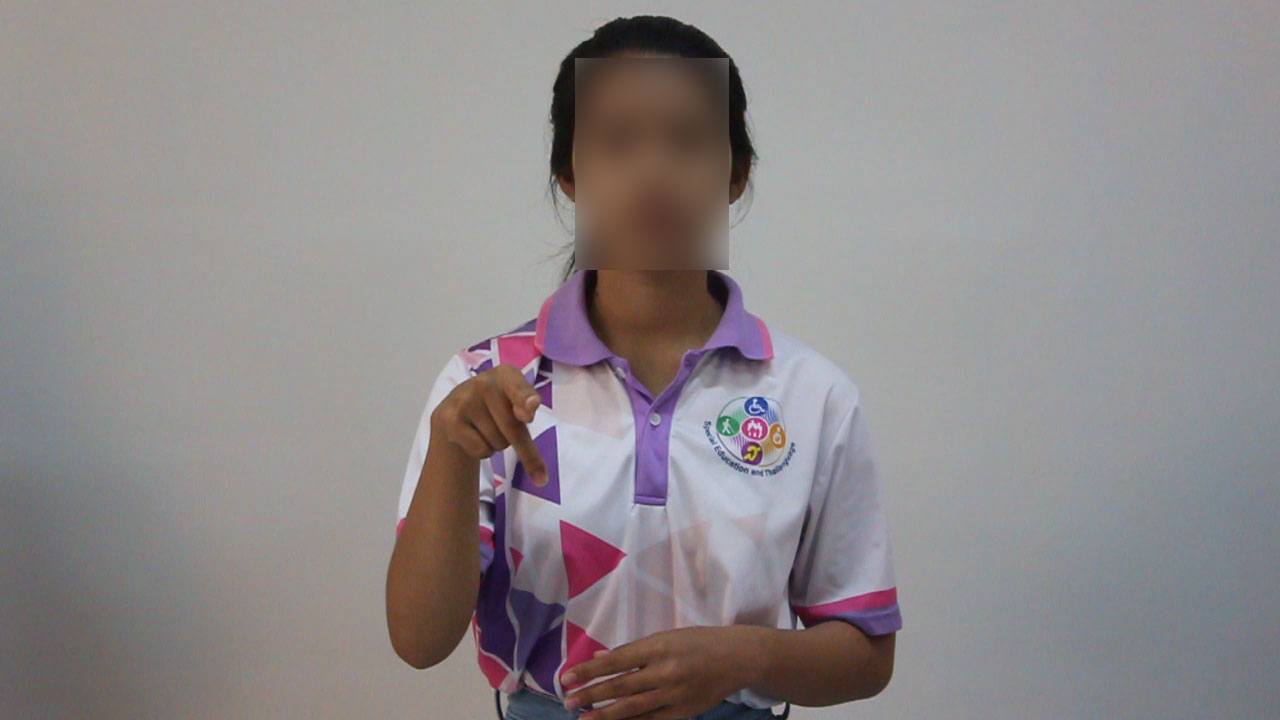por: (421, 351, 560, 496)
